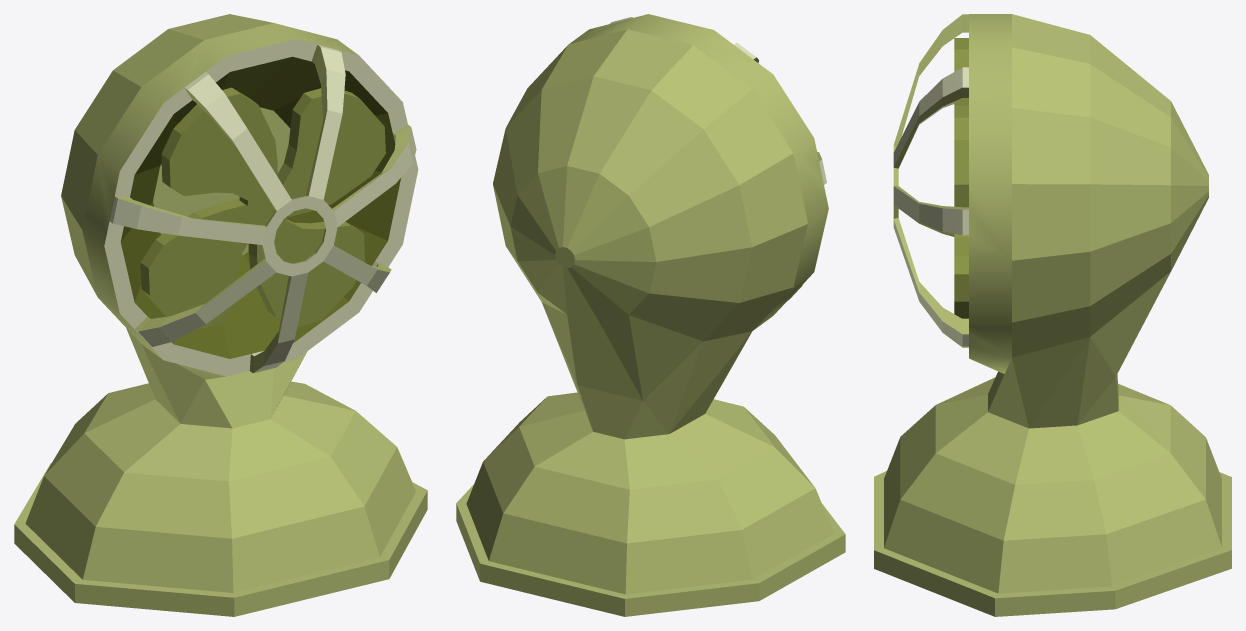
Rendered from Ventoinha.FBX.
3 renders of one model, left to right at view 1: azimuth 30°, elevation 25°; view 2: azimuth 150°, elevation 25°; view 3: azimuth 270°, elevation 25°, orthographic. The views are drawn at different scales.
Parts seen in each view (by area): view 1: Fan, FanInterior; view 2: Fan; view 3: Fan, FanInterior.
Boxes of the visible parts, bbox=[...] form: Fan: bbox=[14, 14, 427, 616]; FanInterior: bbox=[140, 87, 385, 330]; Fan: bbox=[456, 14, 845, 616]; Fan: bbox=[874, 14, 1231, 616]; FanInterior: bbox=[954, 38, 968, 318].
Size of the model in its own units: 174 by 237 by 153.
